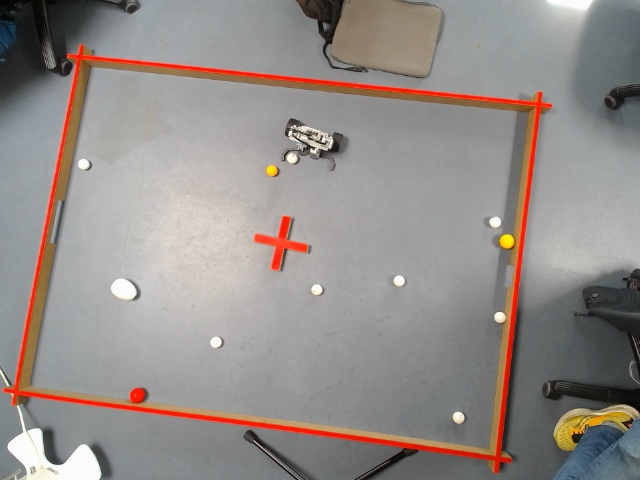big_goal: (36, 197, 69, 243)
cross: (246, 213, 311, 273)
egg: (110, 276, 136, 300)
orange: (264, 165, 275, 174)
robot: (280, 114, 352, 168)
small_goal: (500, 257, 518, 287)
wall: (4, 45, 94, 405), (67, 48, 552, 113), (488, 87, 544, 468)
white: (308, 282, 322, 296), (77, 156, 90, 168), (492, 312, 504, 324), (488, 216, 500, 227), (452, 413, 464, 423), (391, 276, 404, 285), (208, 336, 218, 345), (284, 155, 295, 162)
